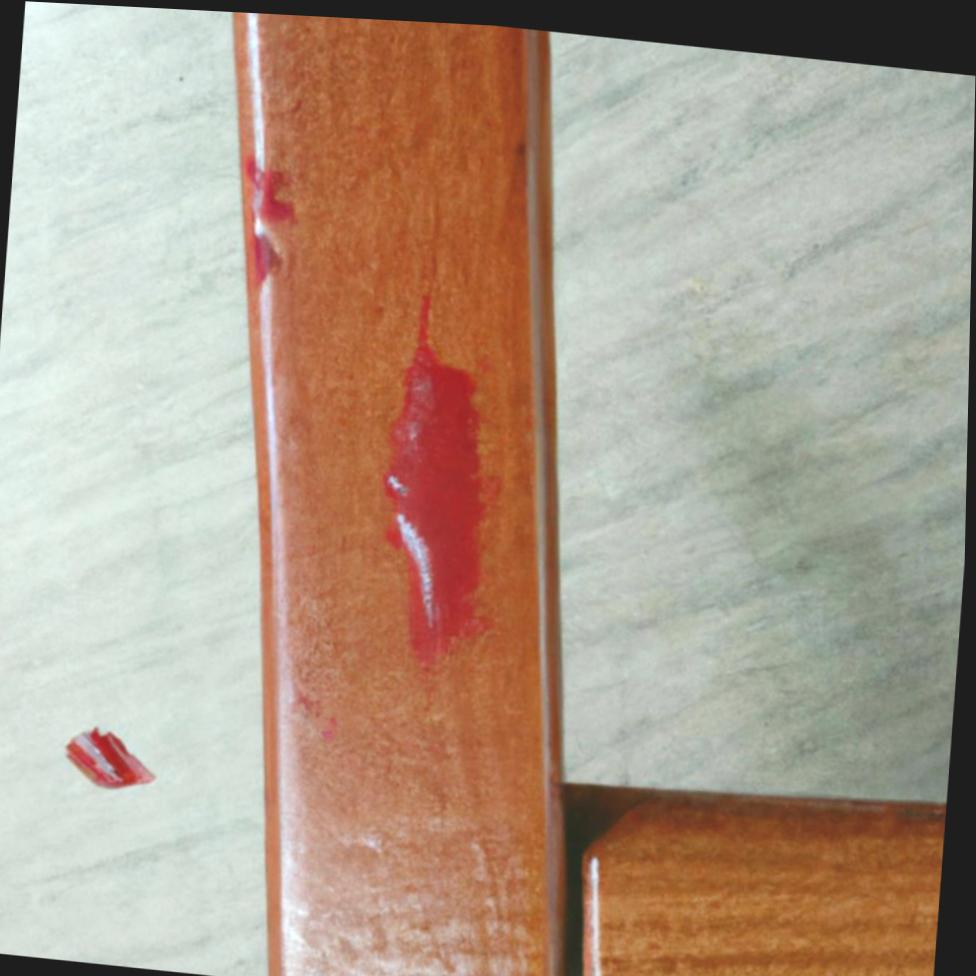Fire: (384, 289, 496, 669), (244, 154, 297, 221), (252, 229, 281, 284)
